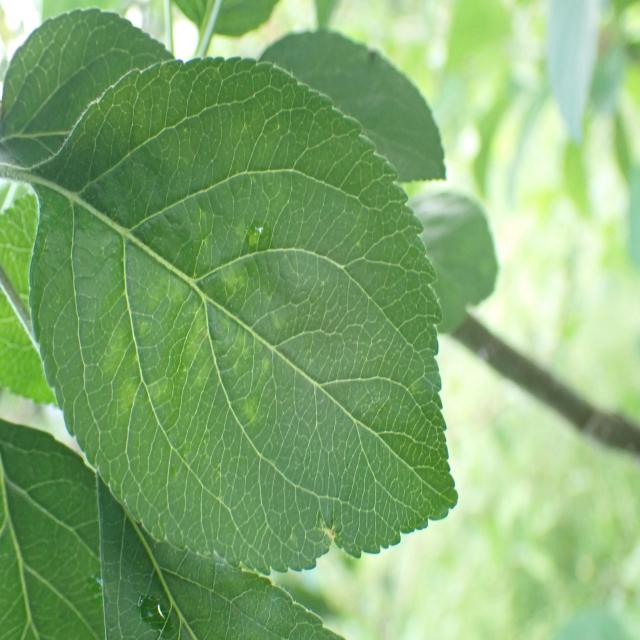scab: (91, 132, 307, 511)
